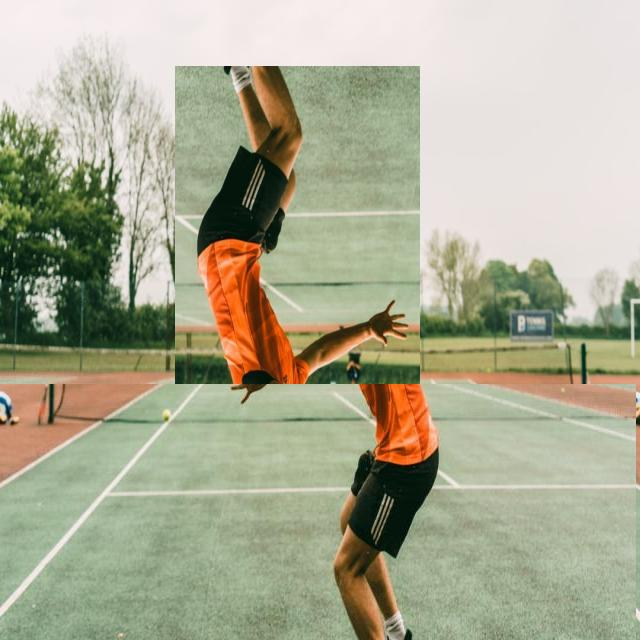court: (0, 384, 636, 640)
net: (0, 323, 606, 431)
player: (175, 66, 420, 638)
